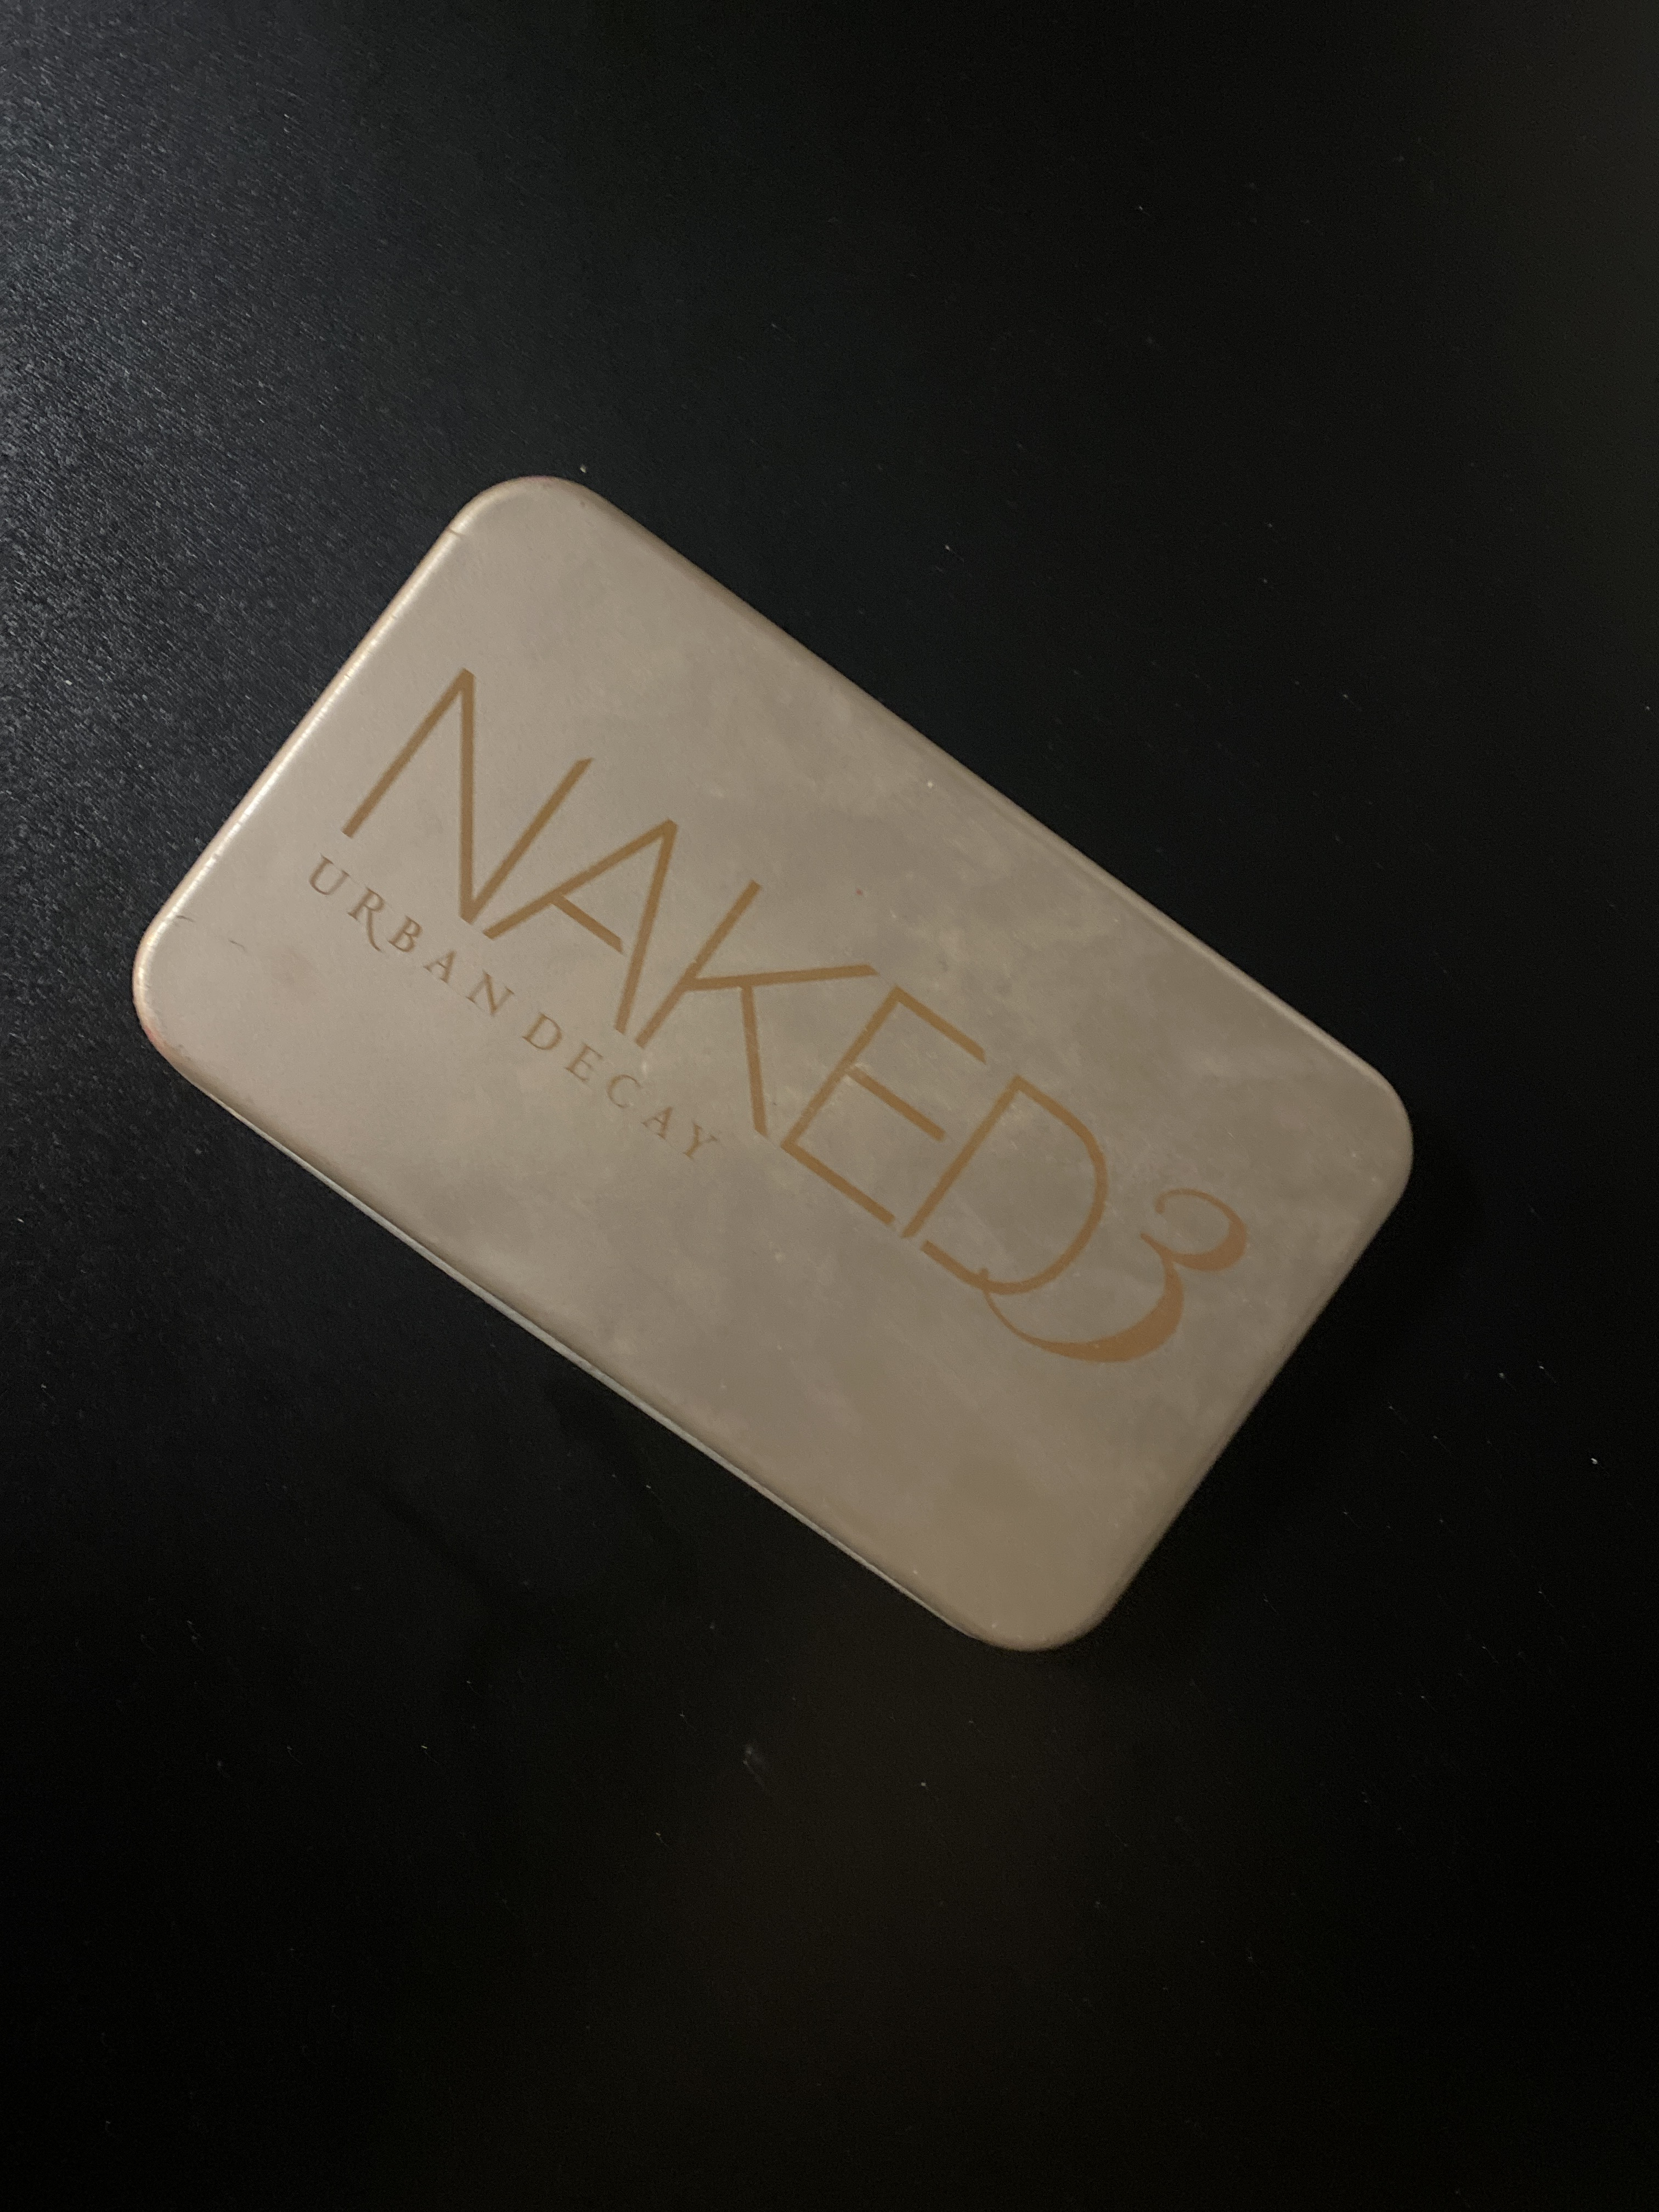metal: (106, 404, 1453, 1784)
